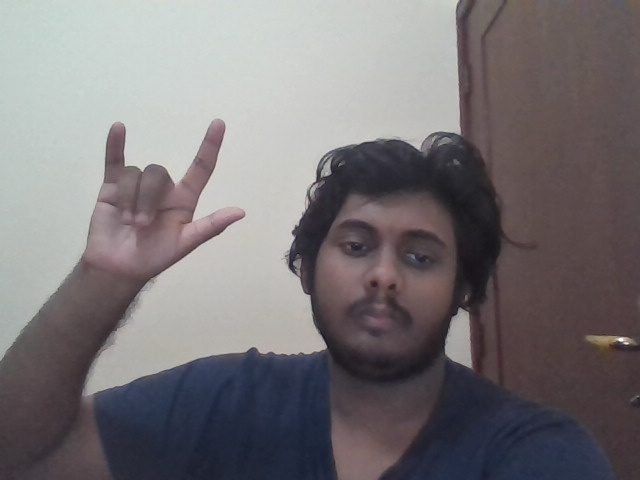iloveyou: (84, 118, 246, 280)
